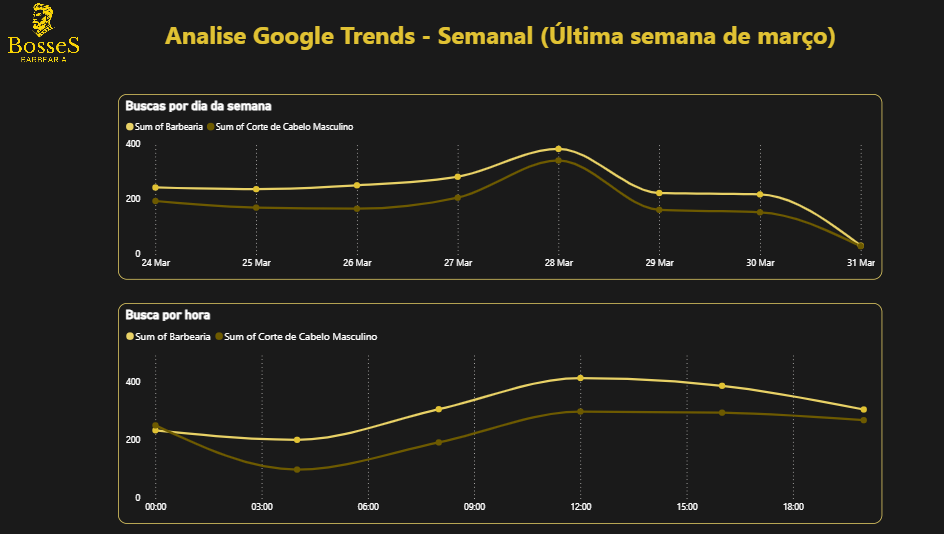

Layout of this report page (visuals, bound fields, positions):
{"tool":"powerbi","page":{"name":"Semanal","canvas":[1280,720],"ordinal":1},"visuals":[{"type":"lineChart","title":"Buscas por dia da semana","fields":{"Y":["Sum(Semanal (Barbearia).Buscas)","Sum(Semanal (Corte de cabelo).Busca)"],"Category":["Data (Última semana de março).Data.Variation.Hierarquia de datas.Ano","Data (Última semana de março).Data.Variation.Hierarquia de datas.Trimestre","Data (Última semana de março).Data.Variation.Hierarquia de datas.Mês","Data (Última semana de março).Data.Variation.Hierarquia de datas.Dia"]},"box":[163.5,127.1,1021.2,248.2],"z":0},{"type":"lineChart","title":"Busca por hora","fields":{"Category":["Hora.Hora"],"Y":["Sum(Semanal (Barbearia).Buscas)","Sum(Semanal (Corte de cabelo).Busca)"]},"box":[163.5,405.9,1021.2,295.3],"z":1000},{"type":"image","box":[10.6,5.9,105.9,85.9],"z":2000},{"type":"textbox","box":[197.6,20,952.9,58.8],"z":2001}]}

Visuals, with their boxes in screenshot pixels (x1, y1, x2, y2), scaled from the page's 1280x720 canvas onto the 944x534 screenshot:
"Buscas por dia da semana" lineChart: [left=121, top=94, right=874, bottom=278]
"Busca por hora" lineChart: [left=121, top=301, right=874, bottom=520]
image: [left=8, top=4, right=86, bottom=68]
textbox: [left=146, top=15, right=848, bottom=58]
